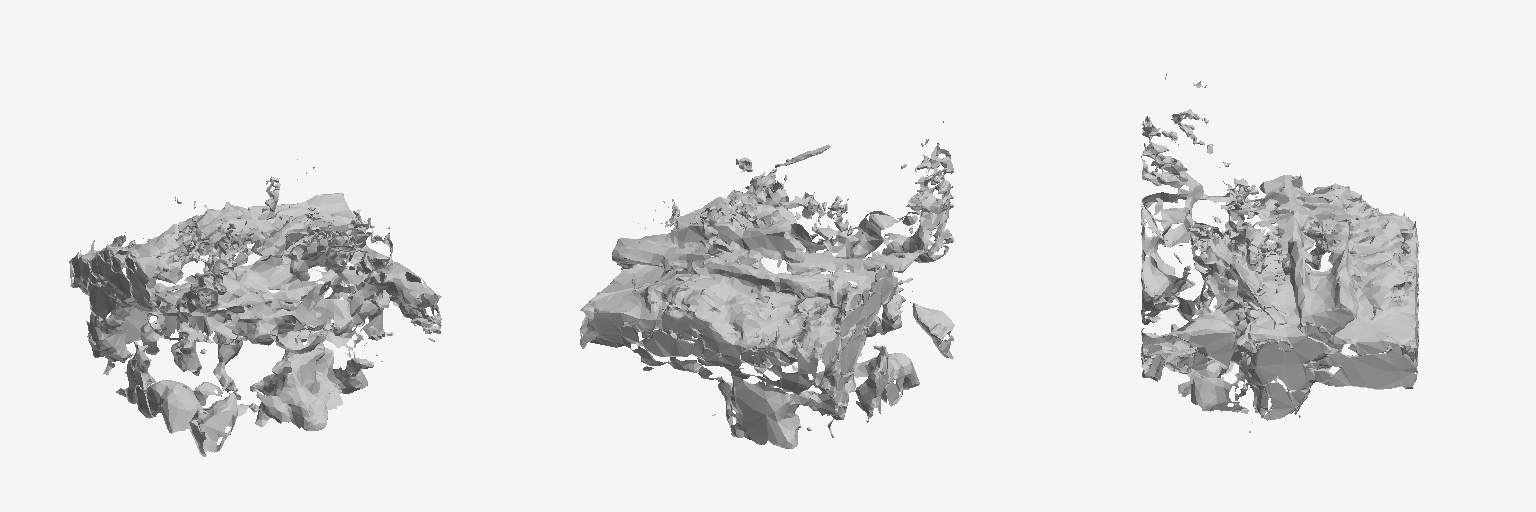
File: Tomi_en_rama_textured_mesh_lowpoly.obj
3 renders of one model, left to right at view 1: azimuth 30°, elevation 25°; view 2: azimuth 150°, elevation 25°; view 3: azimuth 270°, elevation 25°, orthographic.
Bounding box in the file's own units: 4.09 × 4.03 × 4.07.